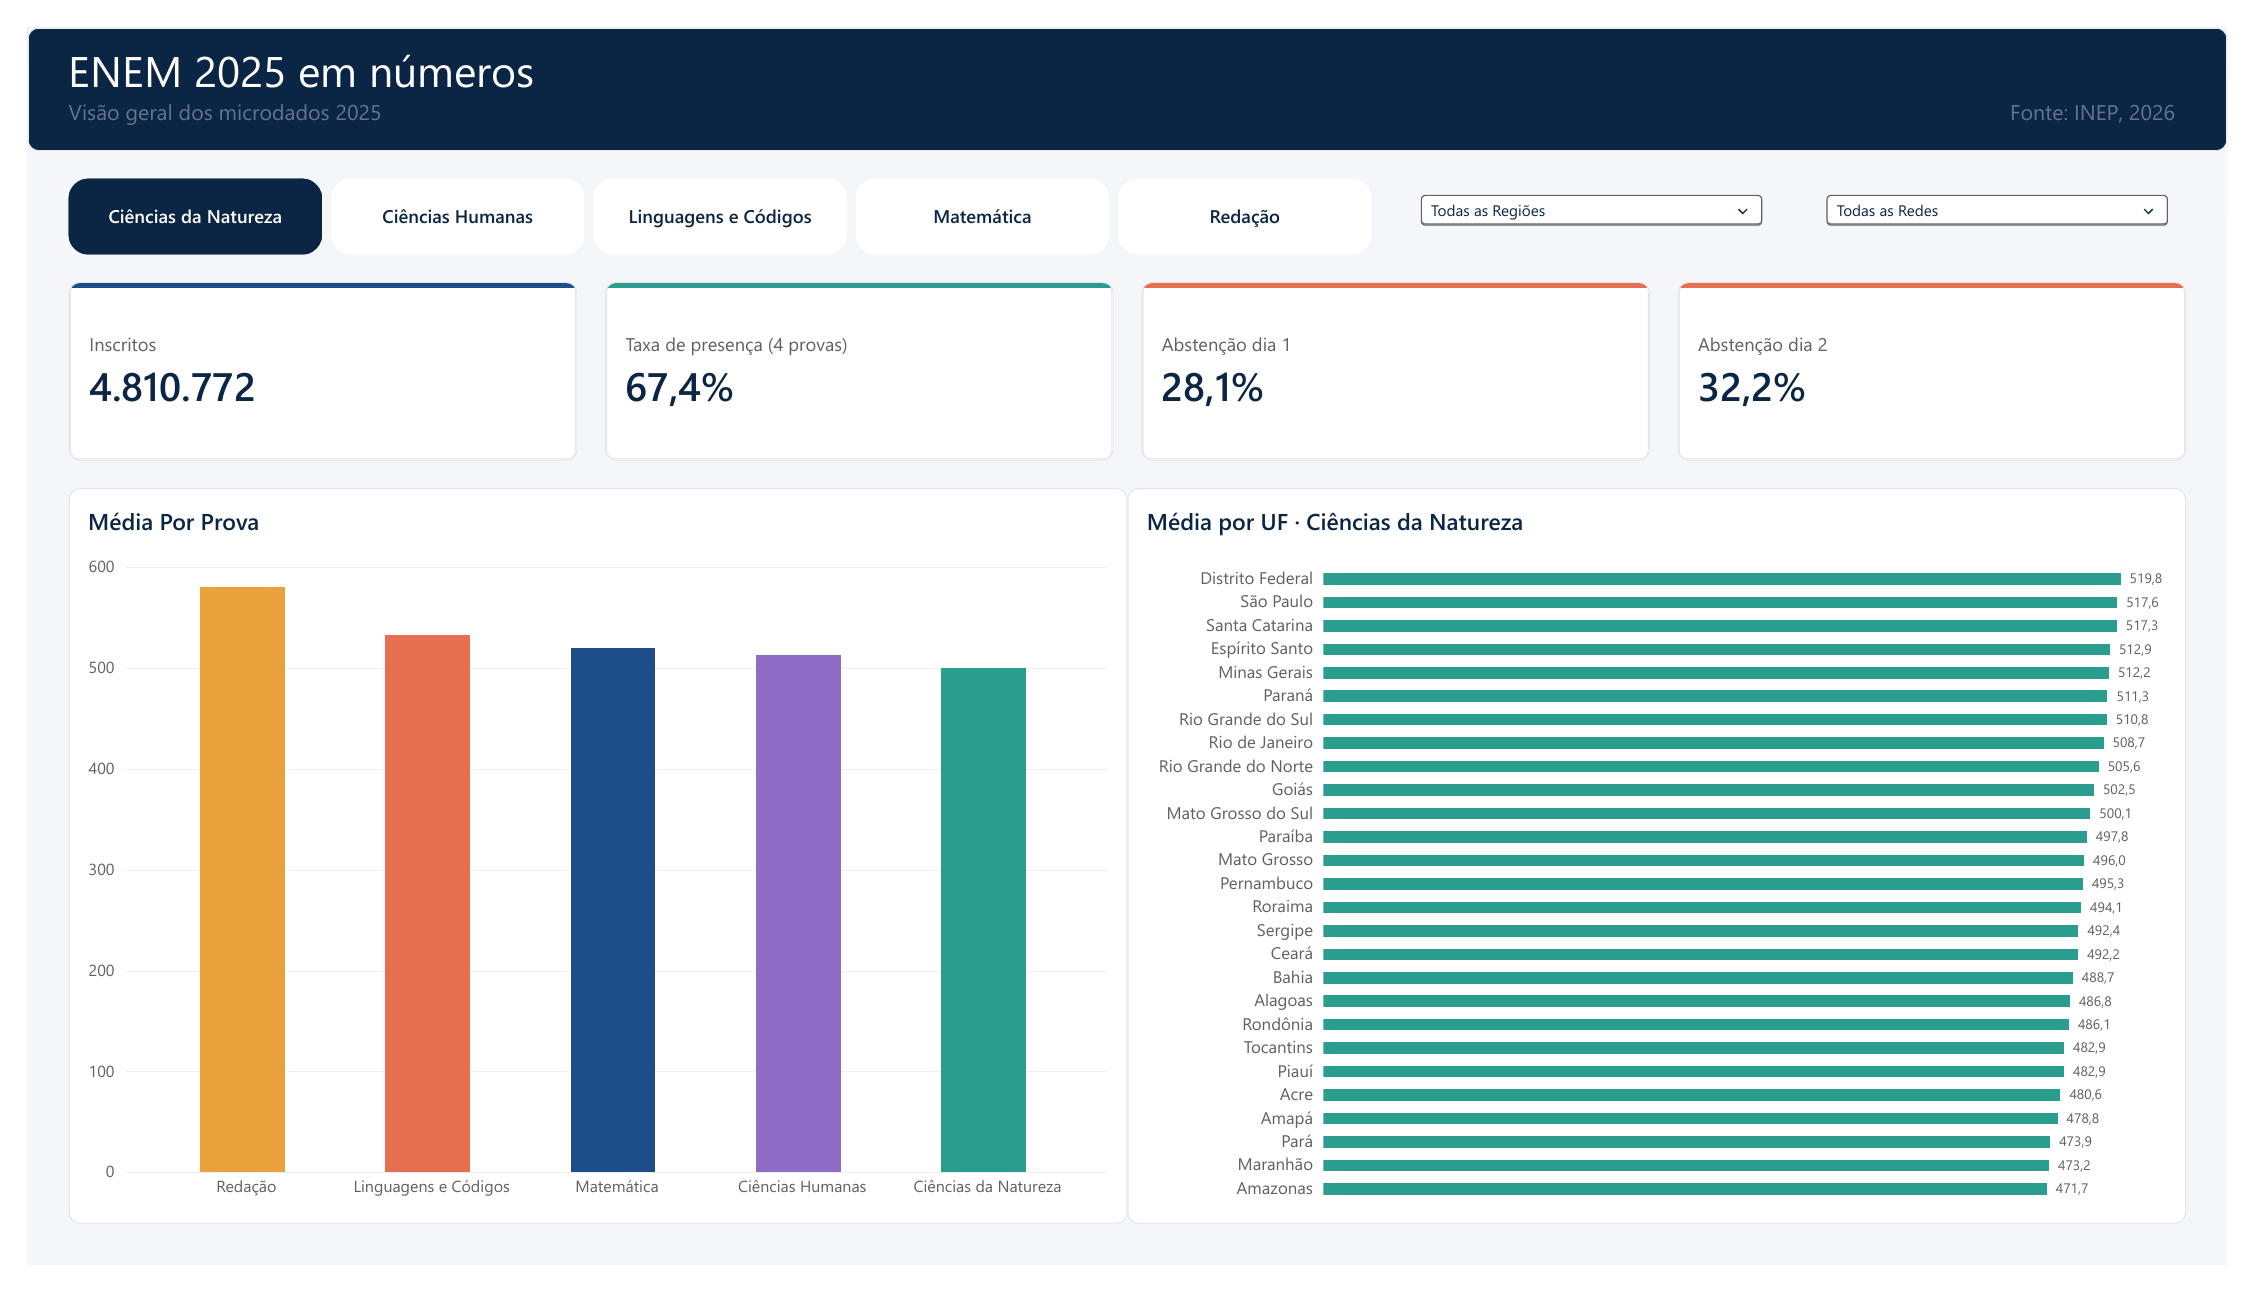

The dashboard page shown, as its layout file describes it:
{"tool":"powerbi","page":{"name":"Visão Geral","canvas":[1920,1080],"ordinal":0},"visuals":[{"type":"cardVisual","fields":{"Data":["_Medidas.Inscritos"]},"box":[36,222,444,156],"z":0},{"type":"cardVisual","fields":{"Data":["_Medidas.Taxa de presença (4 provas)"]},"box":[504,222,444,156],"z":1000},{"type":"cardVisual","fields":{"Data":["_Medidas.Abstenção dia 1"]},"box":[972,222,444,156],"z":2000},{"type":"cardVisual","fields":{"Data":["_Medidas.Abstenção dia 2"]},"box":[1440,222,444,156],"z":3000},{"type":"clusteredColumnChart","title":"Média Por Prova","fields":{"Category":["dim_area.area"],"Y":["_Medidas.Média da área selecionada"]},"box":[36,402,924,642],"z":4000},{"type":"clusteredBarChart","fields":{"Category":["dim_uf.uf"],"Y":["_Medidas.Média da área selecionada"]},"box":[960,402,924,642],"z":5000},{"type":"advancedSlicerVisual","fields":{"Values":["dim_area.area"]},"box":[36,132,1140,66],"z":6000},{"type":"listSlicer","fields":{"Values":["dim_uf.regiao"]},"box":[1200,132,330,66],"z":7000},{"type":"listSlicer","fields":{"Values":["dim_rede.rede"]},"box":[1554,132,330,66],"z":8000},{"type":"shape","box":[0,0,1920,108],"z":9000},{"type":"textbox","box":[35.5,11.8,1855.7,82.9],"z":10000}]}

Visuals, with their boxes in screenshot pixels (x1, y1, x2, y2), scaled from the page's 1920x1080 canvas onto the 2255x1293 screenshot:
cardVisual - _Medidas.Inscritos: x1=42, y1=266, x2=564, y2=453
cardVisual - _Medidas.Taxa de presença (4 provas): x1=592, y1=266, x2=1113, y2=453
cardVisual - _Medidas.Abstenção dia 1: x1=1142, y1=266, x2=1663, y2=453
cardVisual - _Medidas.Abstenção dia 2: x1=1691, y1=266, x2=2213, y2=453
"Média Por Prova" clusteredColumnChart: x1=42, y1=481, x2=1128, y2=1250
clusteredBarChart - dim_uf.uf x _Medidas.Média da área selecionada: x1=1128, y1=481, x2=2213, y2=1250
advancedSlicerVisual - dim_area.area: x1=42, y1=158, x2=1381, y2=237
listSlicer - dim_uf.regiao: x1=1409, y1=158, x2=1797, y2=237
listSlicer - dim_rede.rede: x1=1825, y1=158, x2=2213, y2=237
shape: x1=0, y1=0, x2=2254, y2=129
textbox: x1=42, y1=14, x2=2221, y2=113
